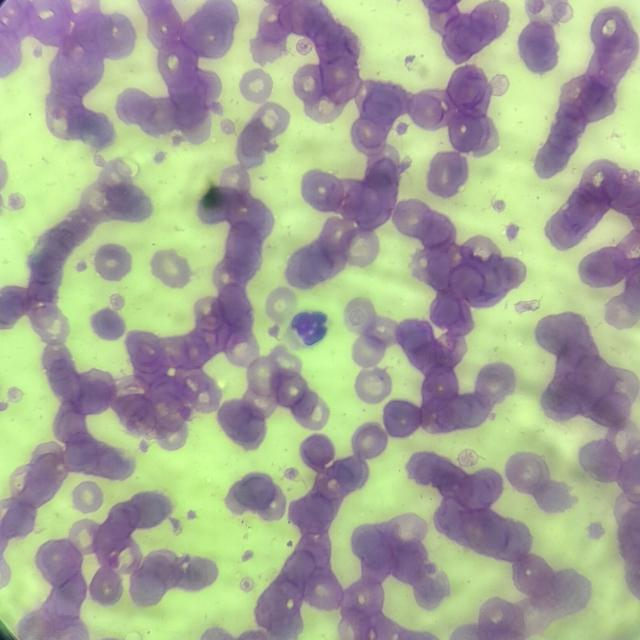Neutrofilo: (287, 308, 332, 352)
